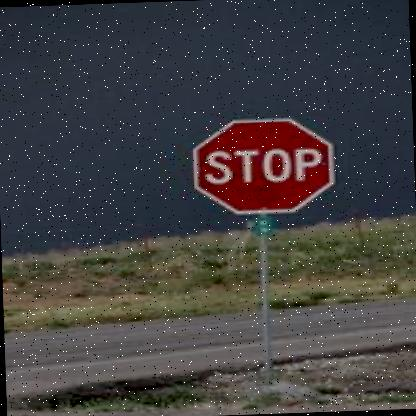stop: (188, 114, 336, 214)
